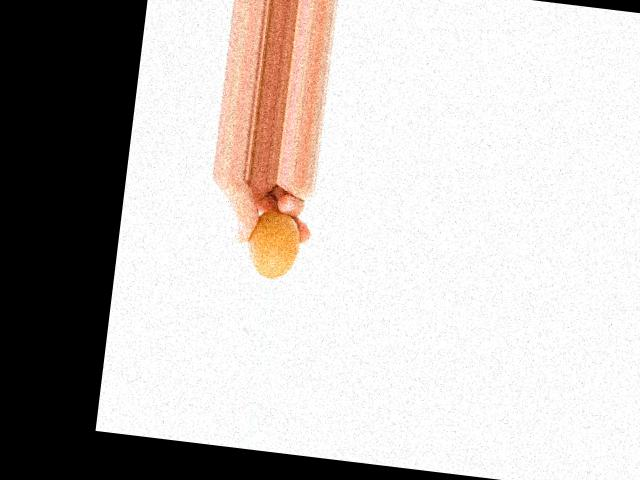egg: (244, 208, 304, 281)
